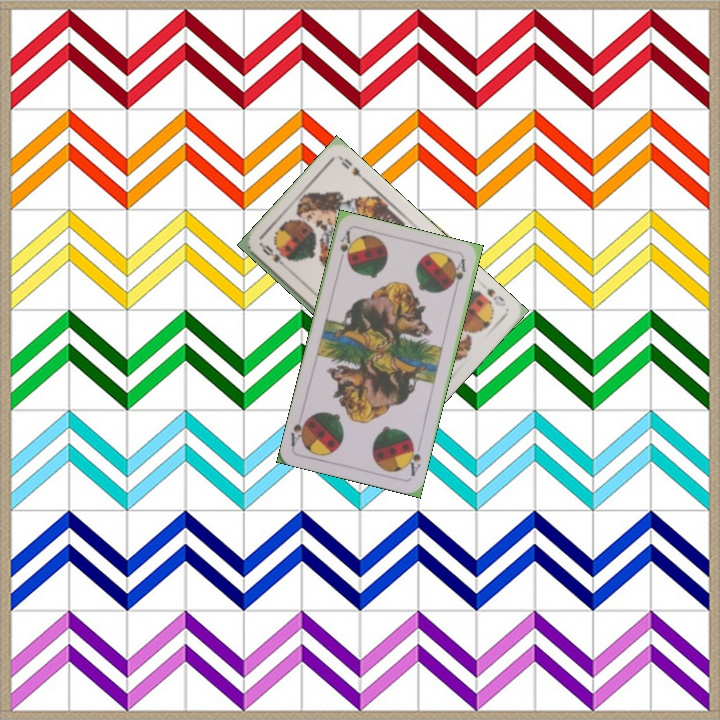SA: (403, 438, 423, 479), (335, 227, 355, 267)
SO: (257, 240, 291, 272), (482, 284, 508, 309)
